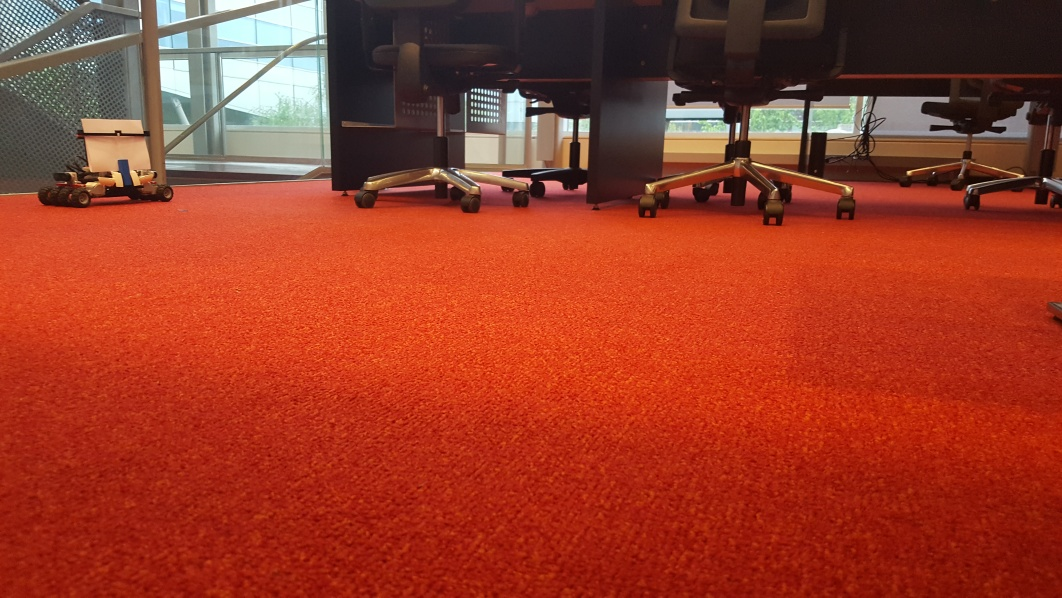car: (37, 118, 174, 209)
